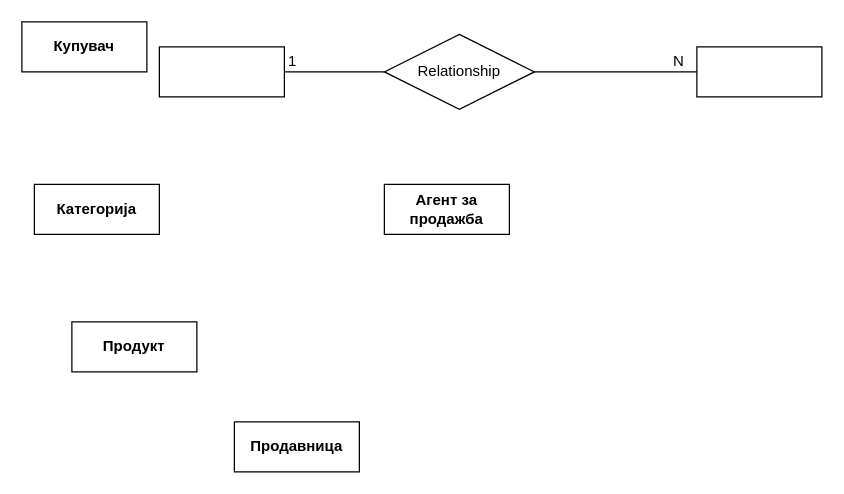
Image size: 844x494. Some labels were removed from this diagram. Here are the shapes that lost their labels. From the top down, the centre of each, then its label:
the point at 221,71: Агент-менаџер
the point at 759,71: Продавач
